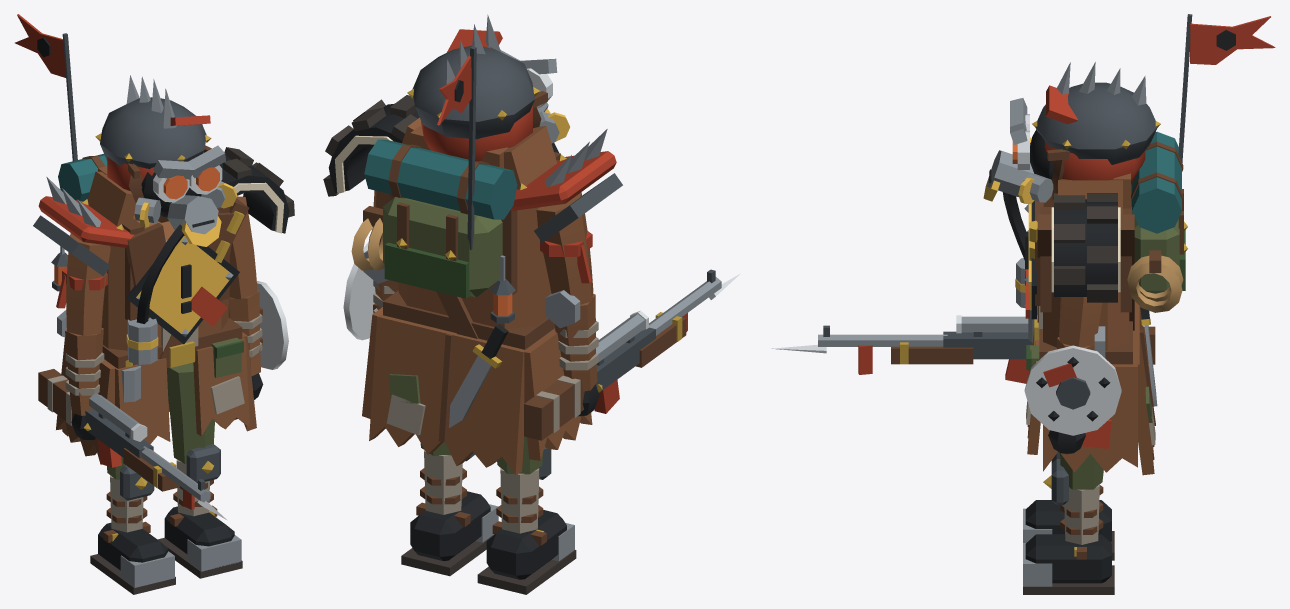
The model's file is Monster_AshRaider.fbx.
3 renders of one model, left to right at view 1: azimuth 30°, elevation 25°; view 2: azimuth 150°, elevation 25°; view 3: azimuth 270°, elevation 25°, orthographic. The views are drawn at different scales.
Visible parts, largest first — view 1: Torso, Head, Pelvis, Rifle, RightLowerLeg, LeftLowerLeg, LeftLowerArm, RightUpperArm, RightLowerArm, LeftUpperLeg, LeftUpperArm, Lenses; view 2: Torso, Pelvis, Head, Rifle, RightLowerLeg, LeftLowerLeg, RightLowerArm, RightUpperArm, LeftLowerArm; view 3: Torso, Head, Pelvis, LeftLowerLeg, Rifle, LeftLowerArm, RightLowerLeg, LeftUpperArm, LeftUpperLeg.
Boxes of the visible parts, x1,y1,x2,y2 form: Torso: (15,14,294,367); Head: (95,75,237,246); Pelvis: (56,317,256,464); Rifle: (38,369,227,520); RightLowerLeg: (90,465,175,594); LeftLowerLeg: (157,444,242,578); LeftLowerArm: (228,281,288,399); RightUpperArm: (56,233,110,335); RightLowerArm: (57,310,104,440); LeftUpperLeg: (167,362,214,463); LeftUpperArm: (229,196,257,299); Lenses: (163,167,219,199); Torso: (323,46,622,338); Pelvis: (362,290,592,474); Head: (407,14,569,161); Rifle: (524,269,740,440); RightLowerLeg: (477,446,576,594); LeftLowerLeg: (401,449,498,576); RightLowerArm: (545,290,602,416); RightUpperArm: (536,192,593,304); LeftLowerArm: (343,242,398,340); Torso: (1002,14,1275,350); Head: (983,62,1160,204); Pelvis: (1026,301,1157,475); LeftLowerLeg: (1023,459,1114,594); Rifle: (772,315,1155,383); LeftLowerArm: (1024,326,1121,454); RightLowerLeg: (1023,452,1114,560); LeftUpperArm: (1059,297,1102,347); LeftUpperLeg: (1060,453,1103,489).
Bounding box in the file's own units: 3.21 × 6.75 × 5.84.
